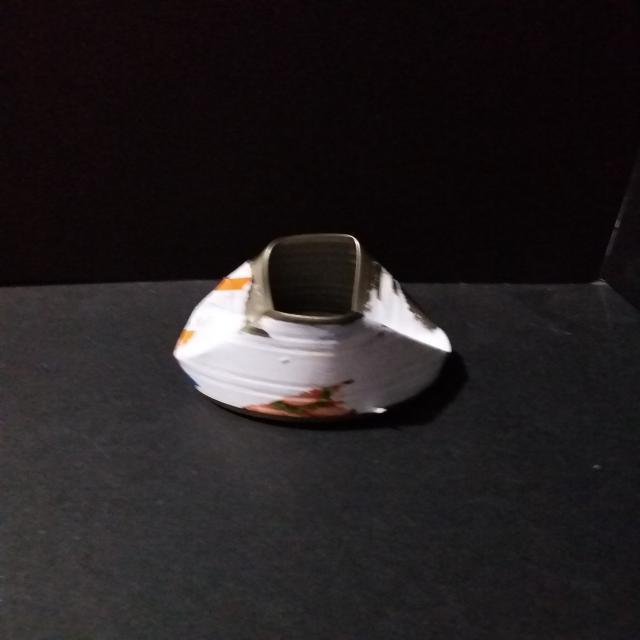metal: (168, 226, 458, 428)
